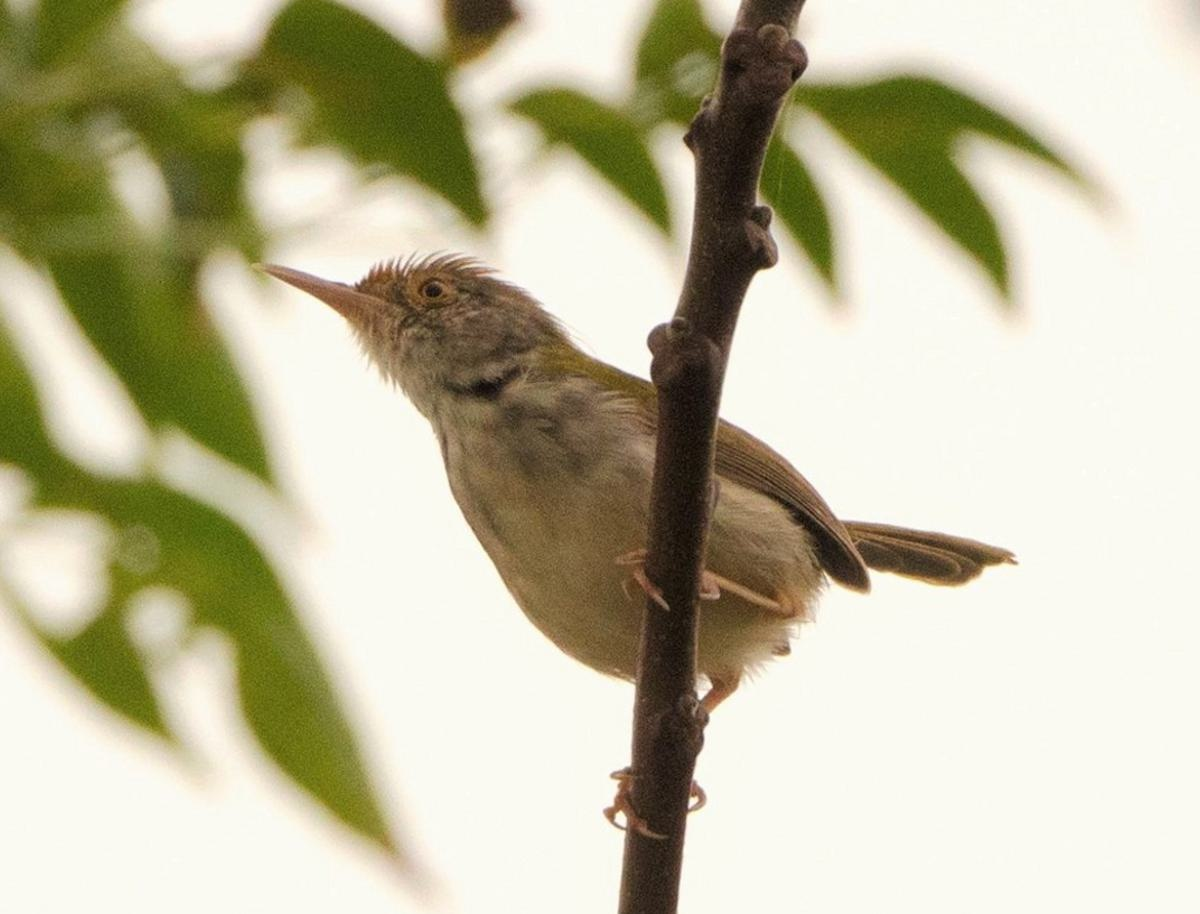tailorbird: (240, 205, 940, 751)
